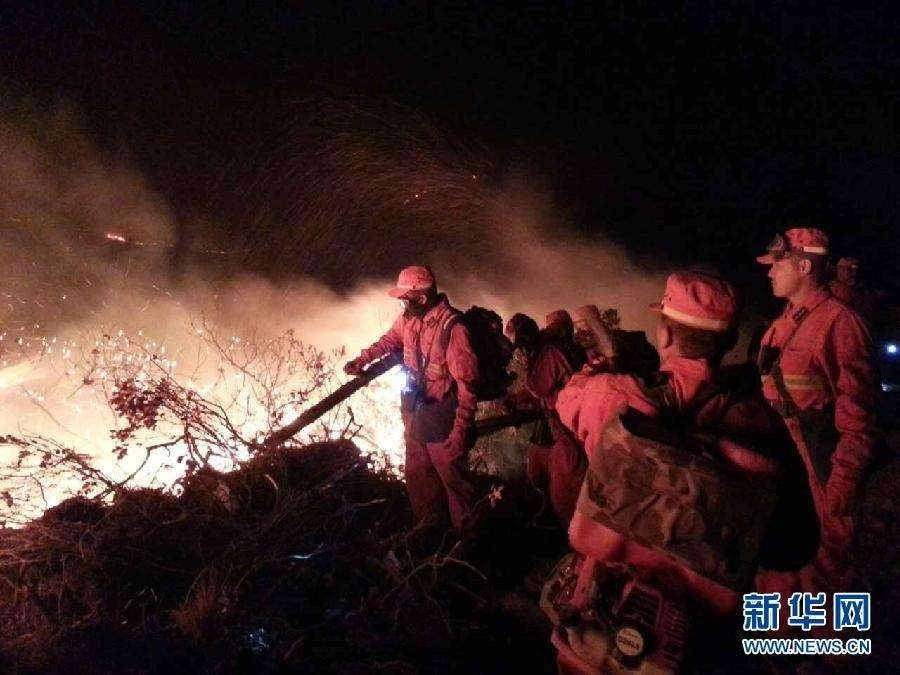fire: (0, 308, 402, 534)
